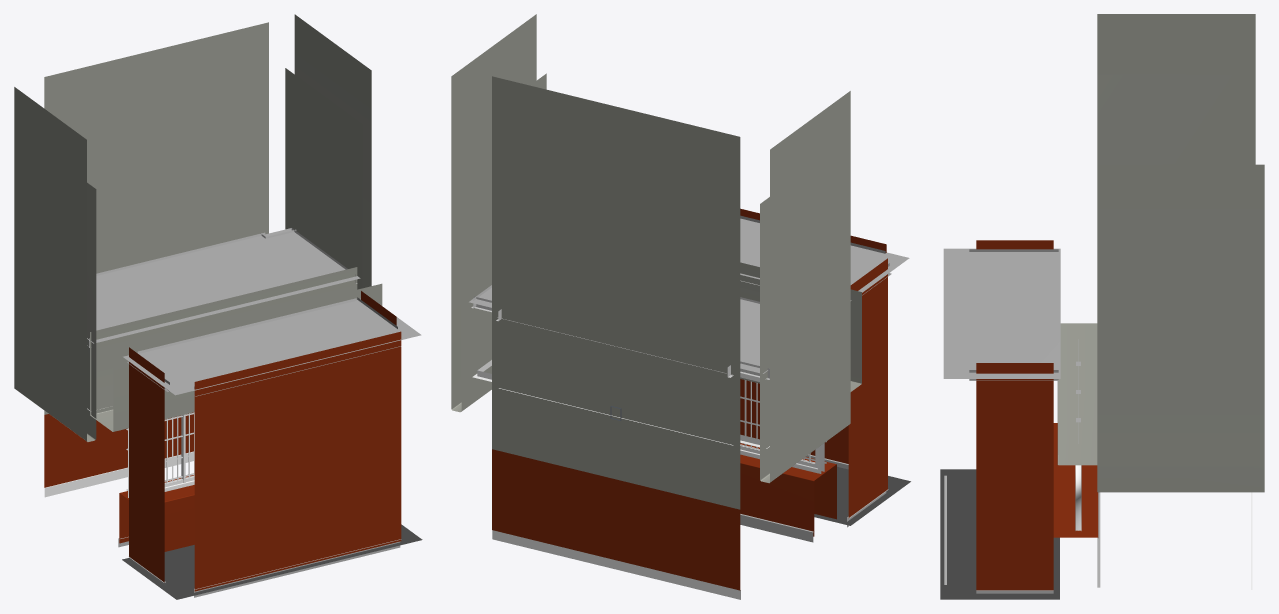
The model's file is SM_H_Building_Tide_Loungehall_22_ATLAS.fbx.
3 views of the same model, side by side, from view 1: azimuth 30°, elevation 25°; view 2: azimuth 150°, elevation 25°; view 3: azimuth 270°, elevation 25° (orthographic). The views are drawn at different scales.
Parts seen in each view (by area): view 1: SM_H_Building_Tide_Loungehall_22_ATLAS; view 2: SM_H_Building_Tide_Loungehall_22_ATLAS; view 3: SM_H_Building_Tide_Loungehall_22_ATLAS.
Boxes of the visible parts, box(x1,y1,x2,y2) form: SM_H_Building_Tide_Loungehall_22_ATLAS: box(14, 14, 422, 599); SM_H_Building_Tide_Loungehall_22_ATLAS: box(451, 14, 910, 599); SM_H_Building_Tide_Loungehall_22_ATLAS: box(940, 14, 1264, 599).
Bounding box in the file's own units: 682 × 620 × 961.
